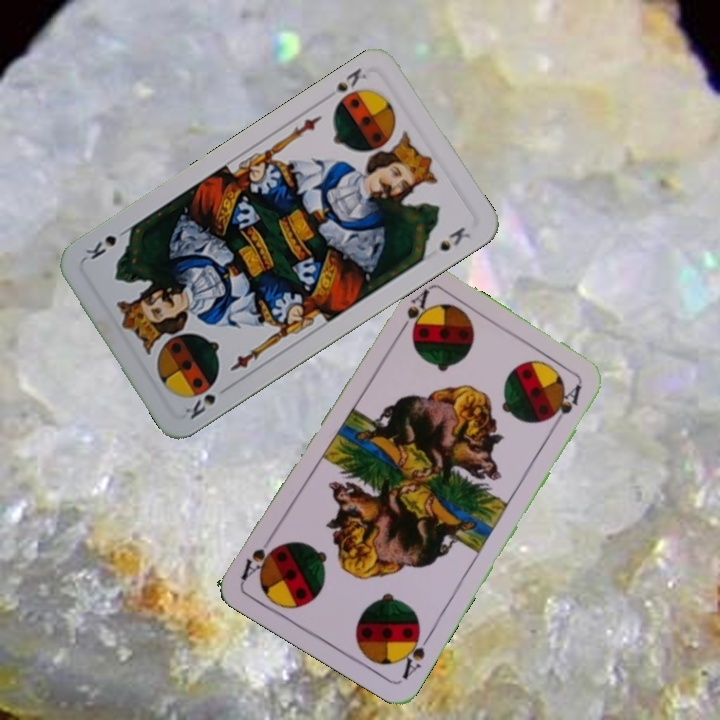SA: (395, 624, 435, 682), (393, 286, 432, 339)
SK: (180, 390, 219, 422), (331, 64, 370, 95)
